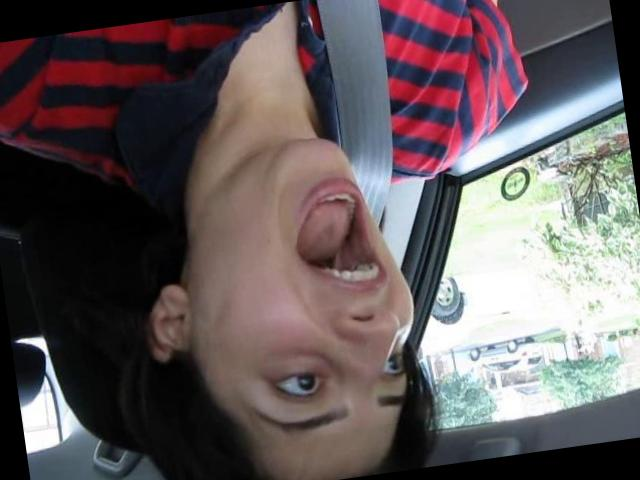eye_open: (264, 359, 336, 410), (379, 348, 414, 386)
face: (192, 114, 440, 472)
mouth_open: (278, 169, 400, 311)
